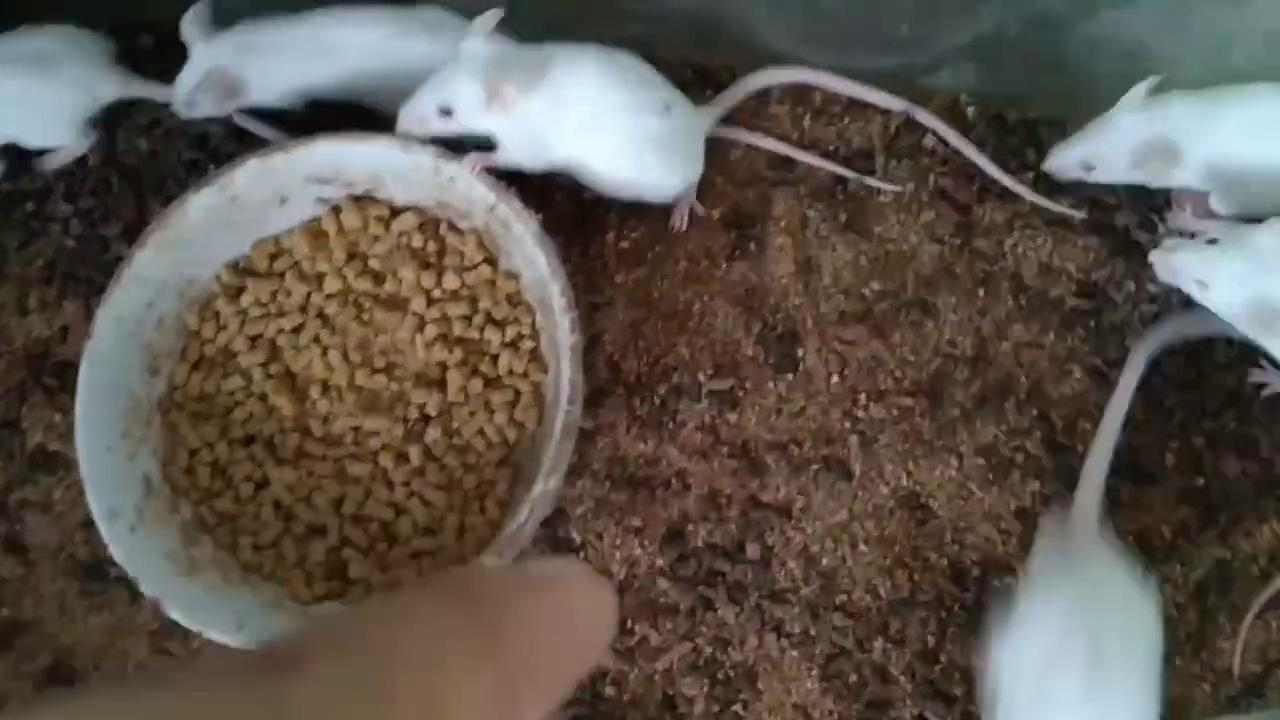rat: (394, 7, 1082, 231), (169, 2, 530, 115), (1047, 72, 1280, 219), (1147, 226, 1280, 396)
